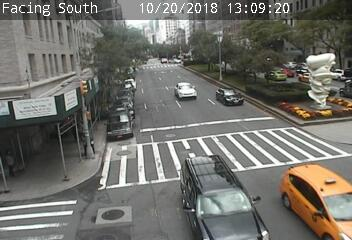car: (189, 157, 251, 229), (283, 173, 352, 233), (213, 86, 242, 105), (173, 82, 196, 100)
